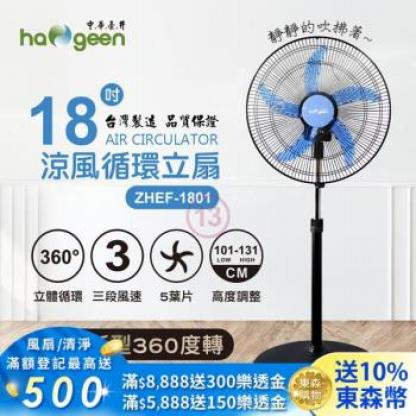fan: (235, 34, 399, 358)
